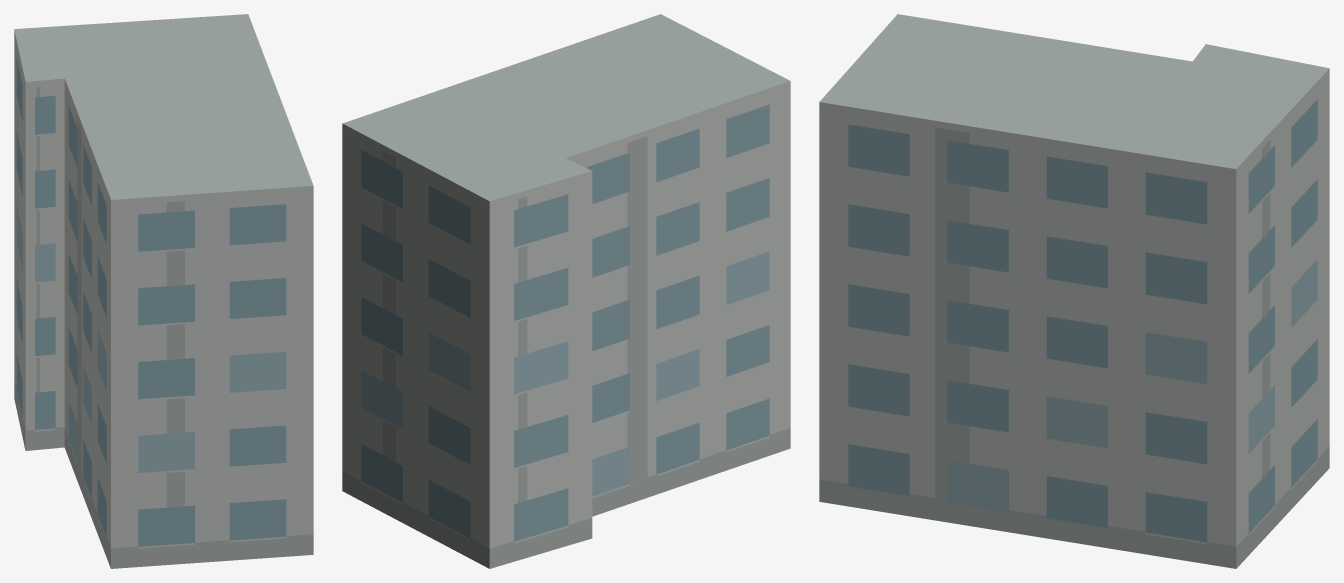
Rendered from survey-upis-32888417.glb.
The picture shows the model from 3 angles, left to right: view 1: azimuth 30°, elevation 25°; view 2: azimuth 150°, elevation 25°; view 3: azimuth 270°, elevation 25°; orthographic projection. The views are drawn at different scales.
Visible parts, largest first — view 1: survey-upis-32888417.tmp; view 2: survey-upis-32888417.tmp; view 3: survey-upis-32888417.tmp.
Boxes of the visible parts, <box> form: survey-upis-32888417.tmp: <box>14,14,313,568</box>; survey-upis-32888417.tmp: <box>342,14,790,568</box>; survey-upis-32888417.tmp: <box>819,14,1329,568</box>.
Bounding box in the file's own units: 11.91 × 14.3 × 16.56.
